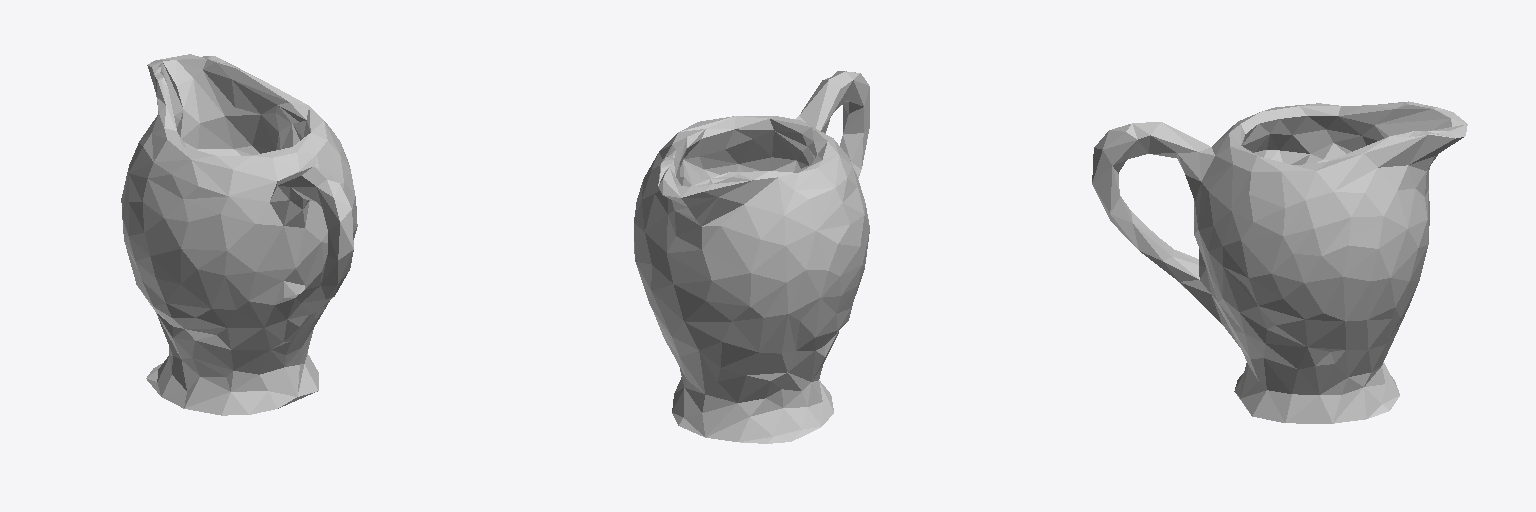
3 renders of one model, left to right at view 1: azimuth 30°, elevation 25°; view 2: azimuth 150°, elevation 25°; view 3: azimuth 270°, elevation 25°, orthographic.
Visible parts, largest first — view 1: result_small.001; view 2: result_small.001; view 3: result_small.001.
Part boxes in pixels (left/top/right/bottom): result_small.001: left=121, top=54, right=357, bottom=415; result_small.001: left=634, top=71, right=869, bottom=443; result_small.001: left=1092, top=101, right=1467, bottom=423.
Bounding box in the file's own units: 2.76 × 3.58 × 4.41.